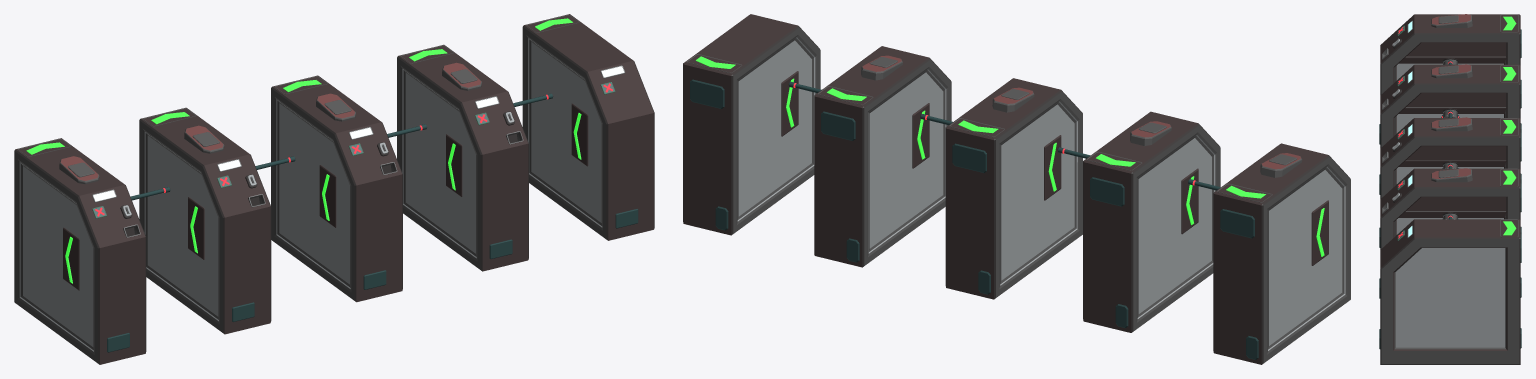
File: maquina_billetes.fbx
The picture shows the model from 3 angles, left to right: view 1: azimuth 30°, elevation 25°; view 2: azimuth 150°, elevation 25°; view 3: azimuth 270°, elevation 25°; orthographic projection. The views are drawn at different scales.
Parts seen in each view (by area): view 1: Cube.485; view 2: Cube.485; view 3: Cube.485.
Part boxes in pixels (x1,y1,x2,y2): Cube.485: (14,14,654,364); Cube.485: (683,14,1350,364); Cube.485: (1379,14,1521,364).
Size of the model in its own units: 7.57 by 2.1 by 2.03.
